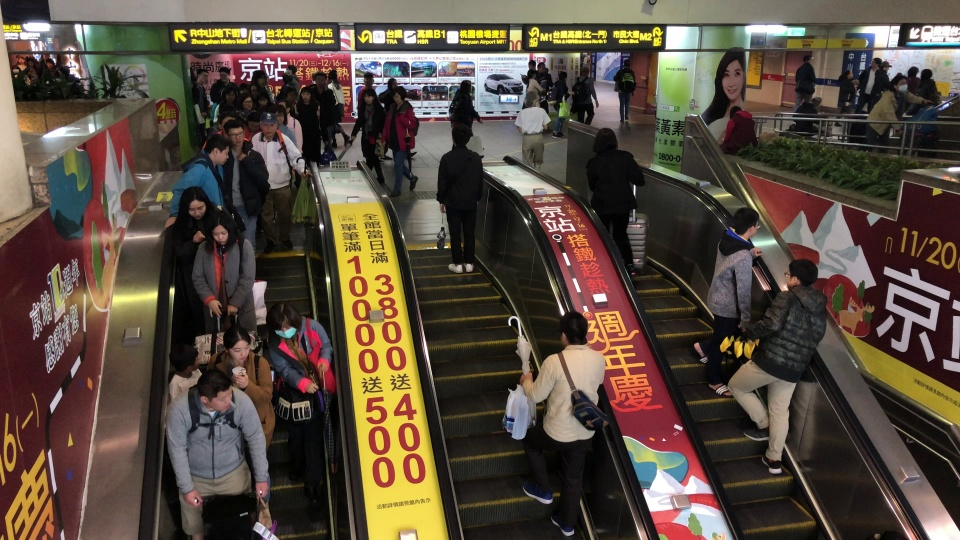person_head: (196, 368, 233, 412), (264, 301, 302, 339), (557, 310, 588, 347), (222, 324, 251, 363), (784, 258, 818, 291), (177, 185, 209, 220), (206, 211, 236, 247), (168, 343, 200, 374), (731, 206, 760, 239), (204, 134, 231, 167), (591, 126, 618, 153), (222, 119, 245, 147), (450, 123, 472, 148), (258, 112, 278, 137), (217, 111, 238, 134), (269, 103, 287, 125), (246, 111, 262, 132), (890, 75, 908, 93), (252, 69, 269, 86), (522, 90, 539, 107), (238, 91, 253, 110), (391, 85, 406, 104), (221, 86, 237, 103), (361, 88, 376, 106), (313, 70, 327, 88), (277, 99, 292, 115), (256, 89, 269, 107), (284, 85, 297, 101), (299, 87, 312, 102), (459, 79, 472, 94), (196, 68, 208, 83), (219, 66, 230, 82), (363, 72, 374, 88), (729, 105, 742, 118), (906, 64, 919, 77), (326, 69, 338, 83), (920, 68, 933, 80), (238, 82, 250, 94), (810, 95, 822, 107), (870, 57, 882, 69), (282, 71, 293, 84), (387, 77, 398, 90), (536, 61, 547, 72), (843, 69, 854, 80), (881, 60, 892, 71), (580, 66, 590, 78), (286, 64, 297, 74), (557, 71, 568, 81), (11, 64, 21, 74), (526, 69, 536, 79), (801, 54, 811, 64), (528, 59, 537, 70), (250, 84, 258, 96), (622, 58, 631, 68), (45, 58, 53, 68), (17, 56, 24, 63)
person_vbox: (726, 258, 827, 475), (518, 310, 605, 537), (163, 368, 271, 540), (264, 301, 334, 522), (690, 206, 763, 400), (206, 324, 276, 506), (170, 185, 240, 335), (585, 126, 646, 276), (249, 112, 312, 255), (191, 211, 257, 335), (435, 123, 484, 275), (220, 119, 270, 258), (163, 134, 231, 229), (864, 74, 934, 152), (379, 85, 418, 197), (350, 88, 385, 186), (379, 77, 417, 160), (513, 90, 551, 173), (308, 70, 336, 162), (448, 80, 484, 149), (277, 99, 303, 188), (199, 111, 249, 152), (167, 343, 202, 401), (296, 87, 321, 168), (326, 70, 350, 149), (720, 105, 757, 155), (854, 56, 883, 114), (551, 70, 575, 139), (613, 57, 637, 122), (792, 95, 829, 136), (574, 66, 599, 125), (833, 69, 858, 126), (793, 53, 816, 114), (269, 104, 297, 148), (191, 68, 208, 140), (356, 72, 379, 124), (536, 60, 553, 130), (212, 86, 238, 123), (916, 67, 938, 106), (873, 60, 892, 105), (209, 66, 230, 105), (275, 71, 296, 102), (236, 91, 257, 119), (243, 111, 262, 141), (286, 64, 300, 102), (40, 58, 59, 84), (525, 69, 547, 91), (905, 64, 920, 96), (10, 64, 31, 85), (283, 86, 298, 115), (16, 56, 27, 71), (579, 52, 587, 66)
